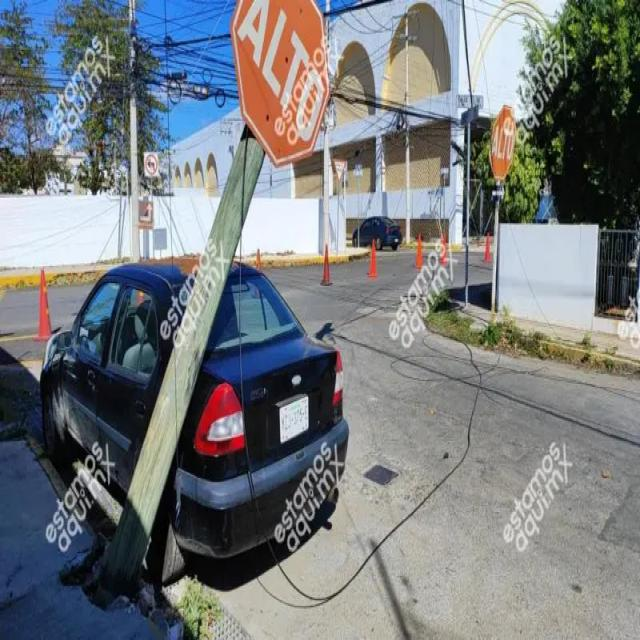Inclined Pole: (102, 0, 333, 591)
